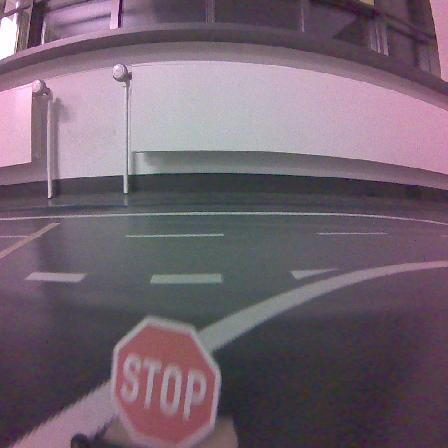STOP: (111, 317, 220, 447)
